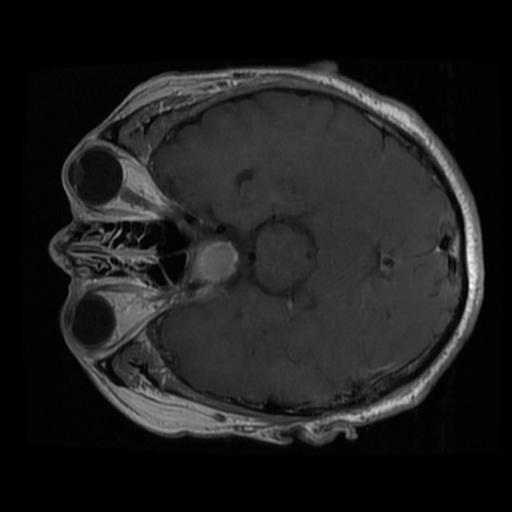pituitary tumour: (186, 236, 239, 284)
